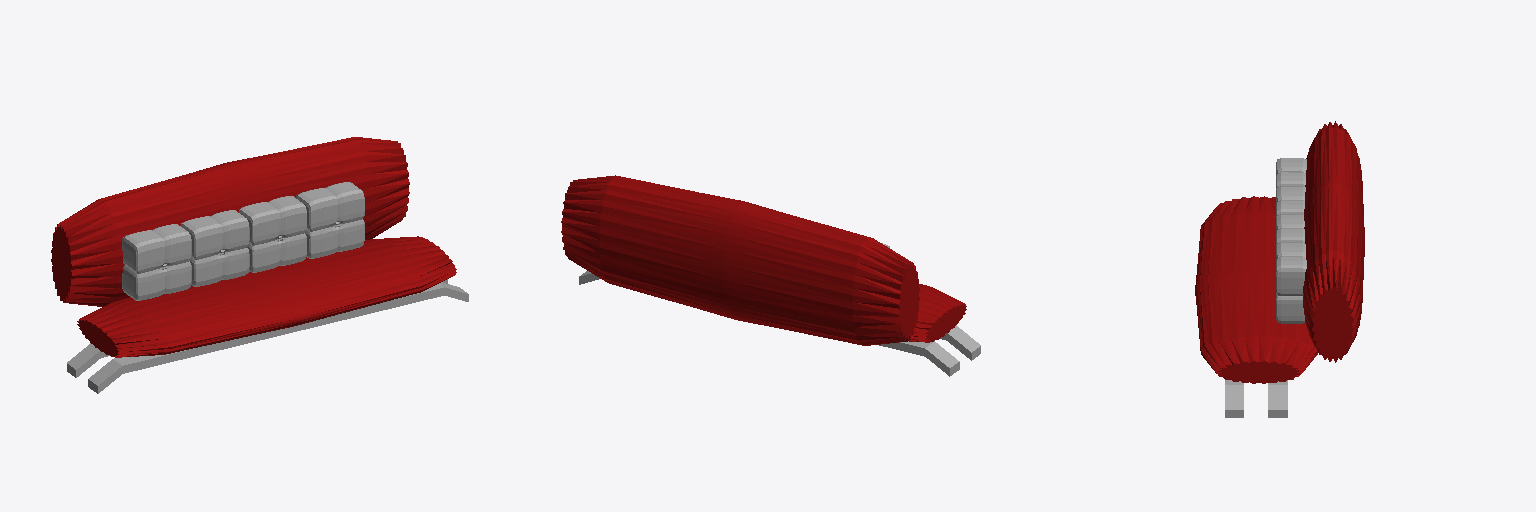
Rendered from couch.obj.
The picture shows the model from 3 angles: view 1: azimuth 30°, elevation 25°; view 2: azimuth 150°, elevation 25°; view 3: azimuth 270°, elevation 25°; orthographic projection.
Visible parts, largest first — view 1: Cylinder1, Cylinder, Box8, Box, Box1, Box7, Box4, Box5; view 2: Cylinder1, Cylinder, Box5, Box4; view 3: Cylinder, Cylinder1, Box, Box8, Box1, Box7, Box5, Box4.
Part boxes in pixels (x1,y1,x2,y2): Cylinder1: (51, 137, 409, 306); Cylinder: (77, 236, 456, 357); Box8: (122, 224, 191, 300); Box: (296, 182, 364, 258); Box1: (181, 210, 249, 286); Box7: (239, 196, 306, 272); Box4: (88, 282, 468, 393); Box5: (67, 279, 447, 377); Cylinder1: (561, 175, 919, 345); Cylinder: (908, 284, 966, 342); Box5: (579, 271, 959, 376); Box4: (940, 325, 980, 360); Cylinder: (1195, 196, 1317, 383); Cylinder1: (1303, 121, 1364, 362); Box: (1276, 242, 1306, 323); Box8: (1276, 158, 1306, 189); Box1: (1276, 186, 1305, 217); Box7: (1276, 214, 1304, 245); Box5: (1268, 380, 1287, 417); Box4: (1225, 380, 1243, 417).
Size of the model in its own units: 3.3 by 1.24 by 1.31.